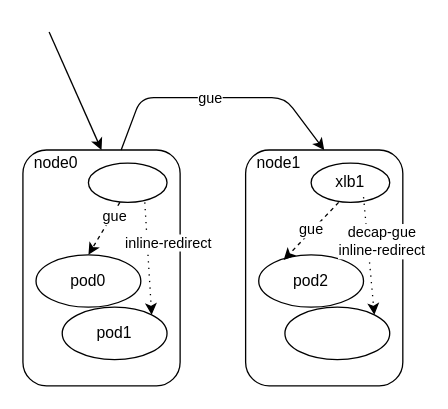
This 448x409 diagram has some shape labels left out. The shapes that lost their labels are listed below. From the top down, each one's centre as x and y in pixels, then its label:
the point at 127,182: xlb0
the point at 337,333: pod3
